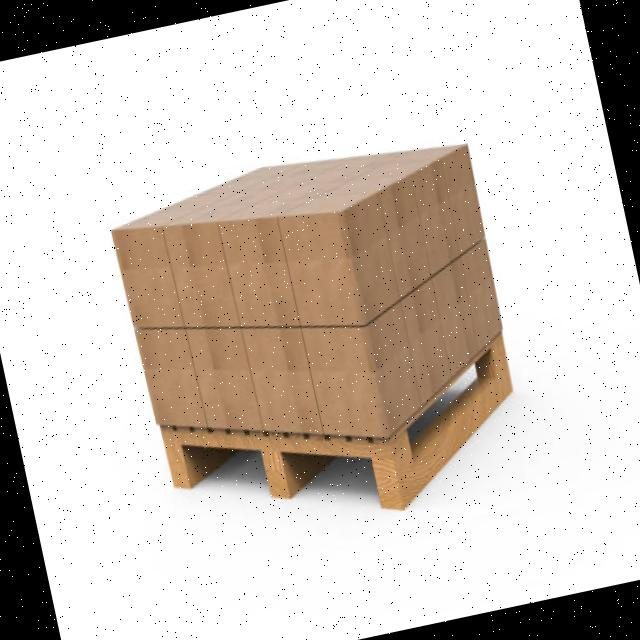Wooden-Pallets: (156, 323, 518, 516)
